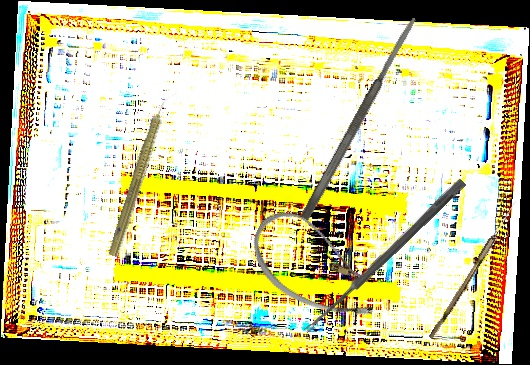Cannula: (236, 200, 398, 334)
Handpiece: (104, 86, 179, 260)
Spatula Surgical: (298, 15, 421, 222)
Surgical Spoon: (302, 177, 467, 336), (428, 198, 519, 342)
